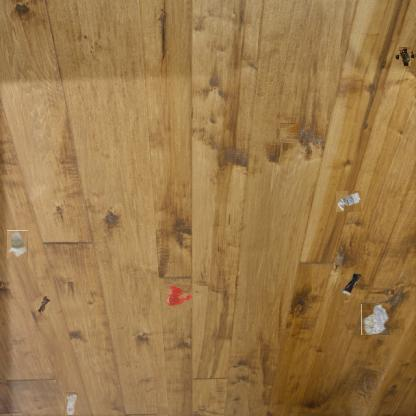dirty: (361, 303, 390, 335), (7, 230, 29, 259), (335, 190, 361, 212), (340, 271, 360, 297), (64, 392, 78, 416), (36, 296, 50, 316), (398, 48, 414, 64)
liquid: (165, 283, 191, 309), (280, 124, 298, 142)
